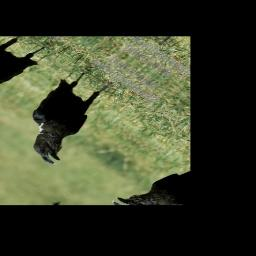Crow: (0, 60, 143, 170)
